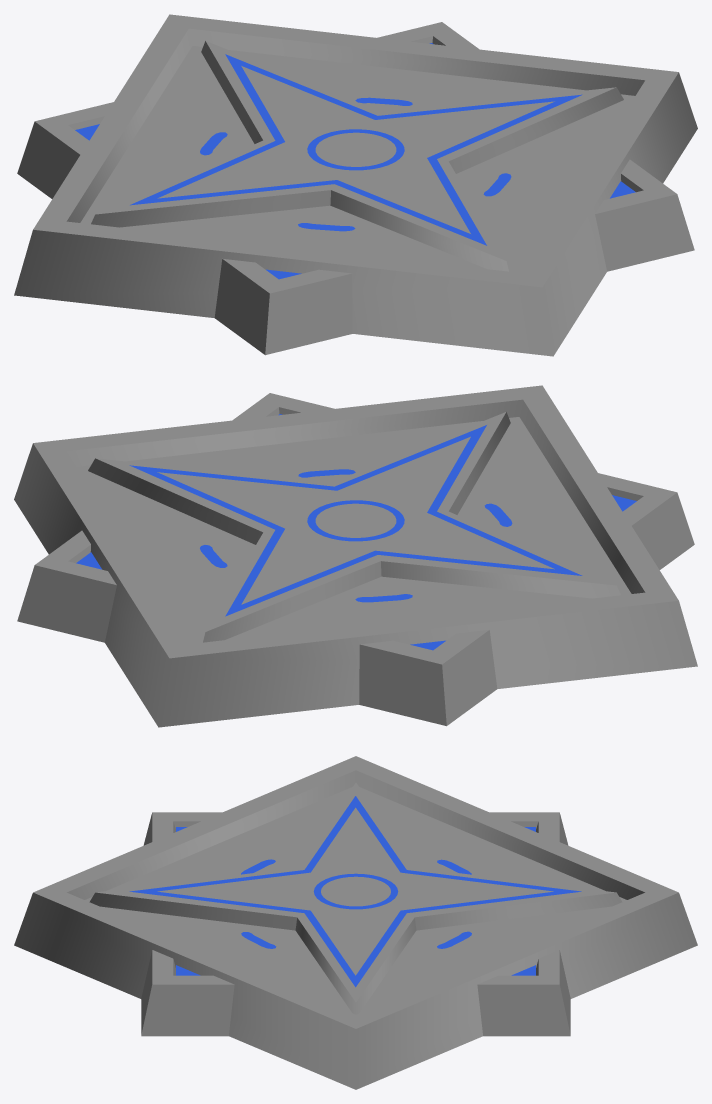
File: Part_3_stone gimmick_02.fbx
3 views of the same model, one above another, from view 1: azimuth 30°, elevation 25°; view 2: azimuth 150°, elevation 25°; view 3: azimuth 270°, elevation 25° (orthographic). The views are drawn at different scales.
Parts seen in each view (by area): view 1: Part_3_stone gimmick_02; view 2: Part_3_stone gimmick_02; view 3: Part_3_stone gimmick_02.
Part boxes in pixels (<box>): Part_3_stone gimmick_02: <box>14,14,697,356</box>; Part_3_stone gimmick_02: <box>14,385,697,727</box>; Part_3_stone gimmick_02: <box>14,756,697,1089</box>.
Bounding box in the file's own units: 2.46 × 0.2137 × 2.46.
